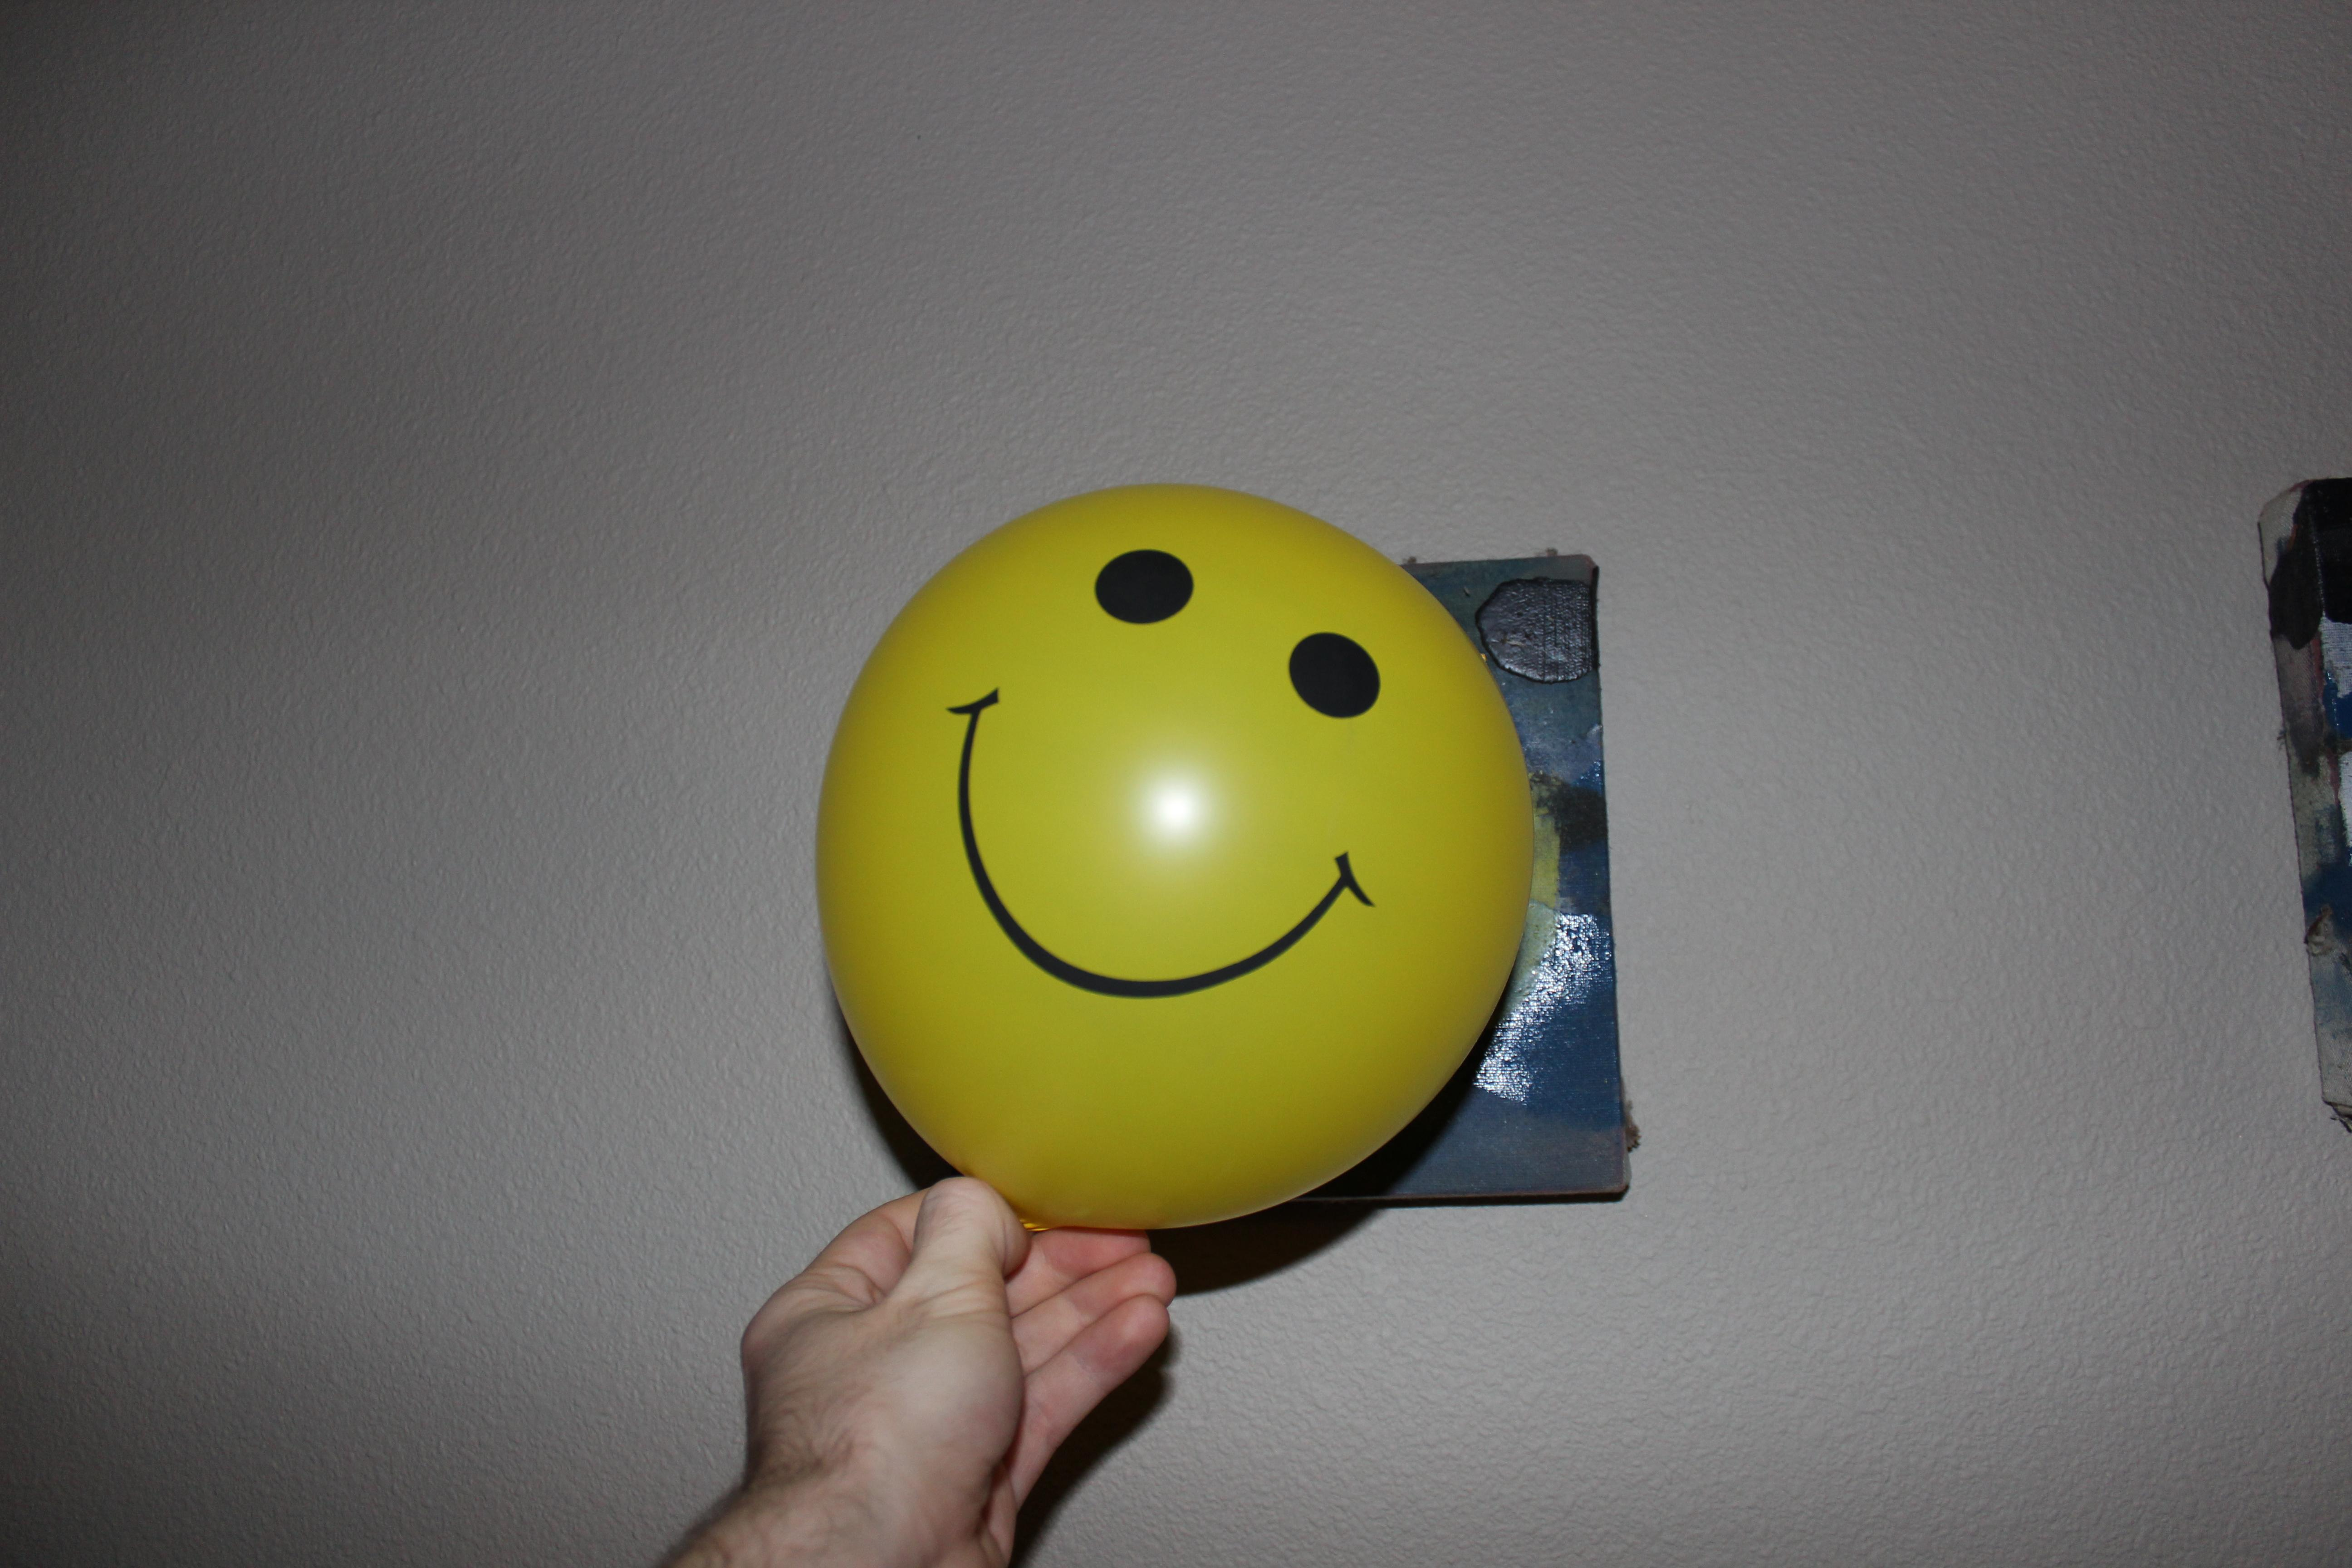yellowBalloon: (775, 445, 1570, 1279)
